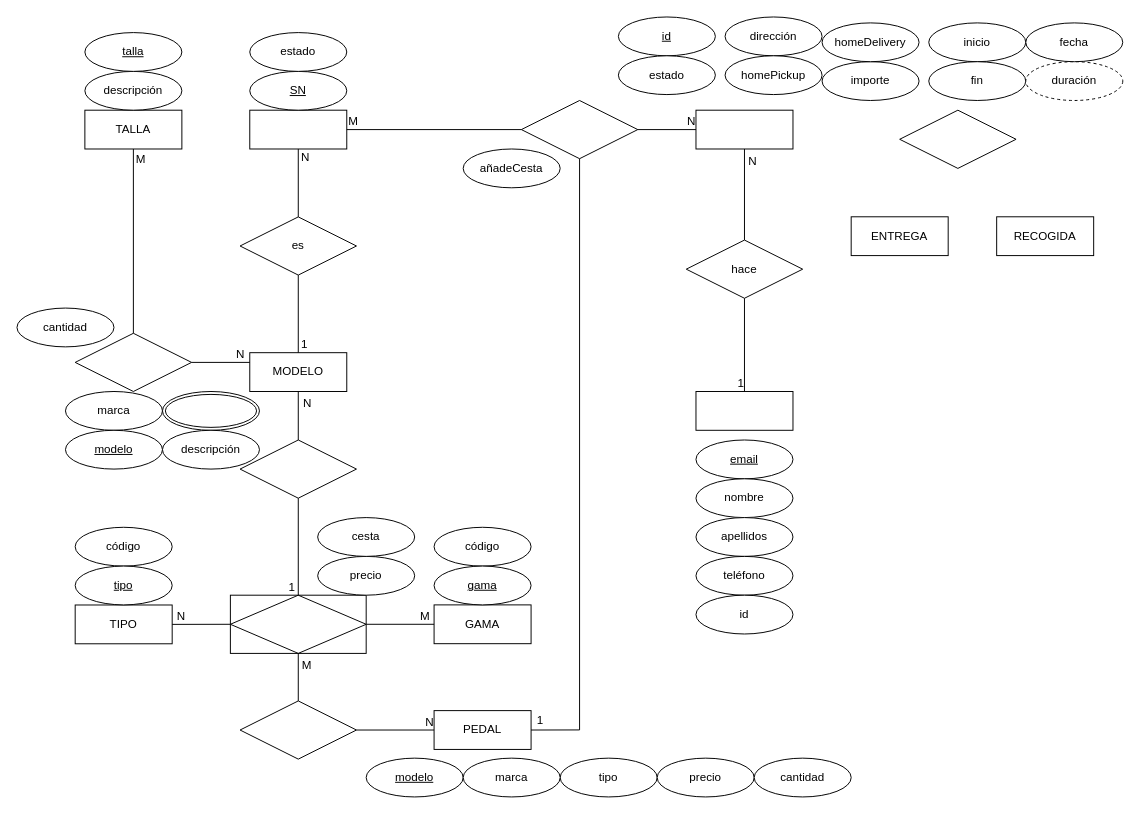
The diagram is 1140 pixels wide and 815 high, and some of its shapes have lost their labels. The shapes that lost their labels are listed below. From the top down, each one's centre as x and y in pixels, then its label:
the point at 298,129: BICICLETA
the point at 579,129: pedido
the point at 744,129: RESERVA
the point at 957,138: DIRECCION
the point at 133,361: tallasModelo
the point at 210,410: imágenes
the point at 744,410: CLIENTE
the point at 297,468: pertenece
the point at 297,623: SEGMENTO
the point at 297,729: compatibilidadPedal
